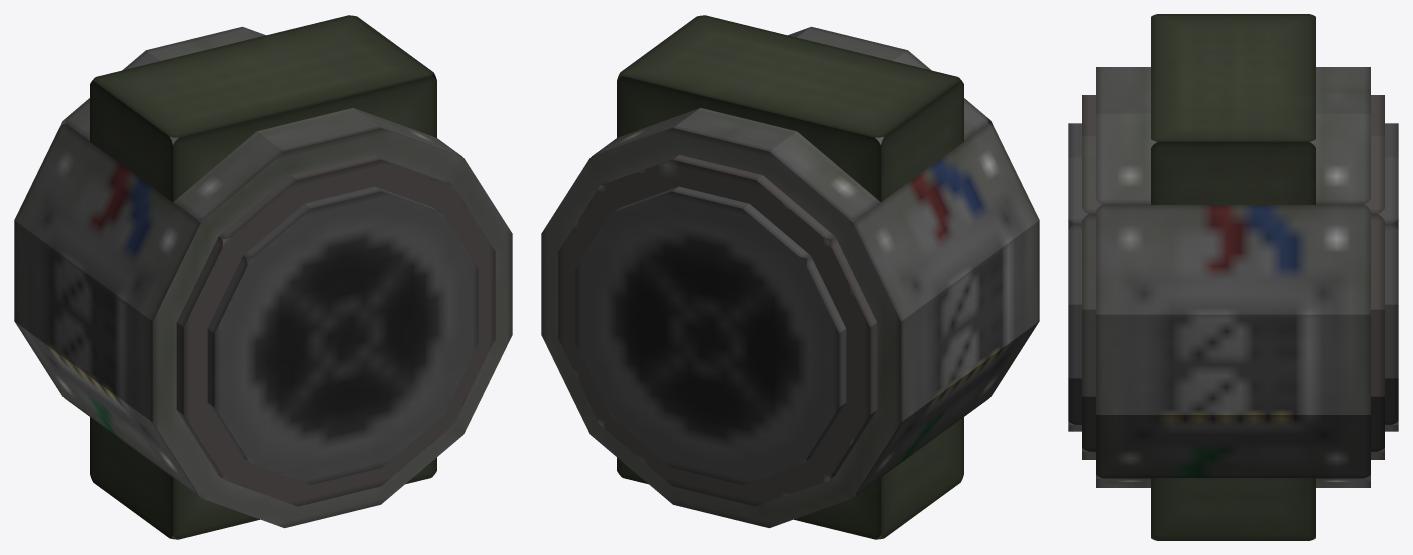
The model's file is tachometr.obj.
3 renders of one model, left to right at view 1: azimuth 30°, elevation 25°; view 2: azimuth 150°, elevation 25°; view 3: azimuth 270°, elevation 25°, orthographic.
Visible parts, largest first — view 1: 1; view 2: 1; view 3: 1.
Part boxes in pixels (x1,y1,x2,y2): 1: (14, 15, 512, 539); 1: (541, 15, 1039, 539); 1: (1068, 14, 1398, 540).
Bounding box in the file's own units: 0.9375 × 1 × 0.75.
